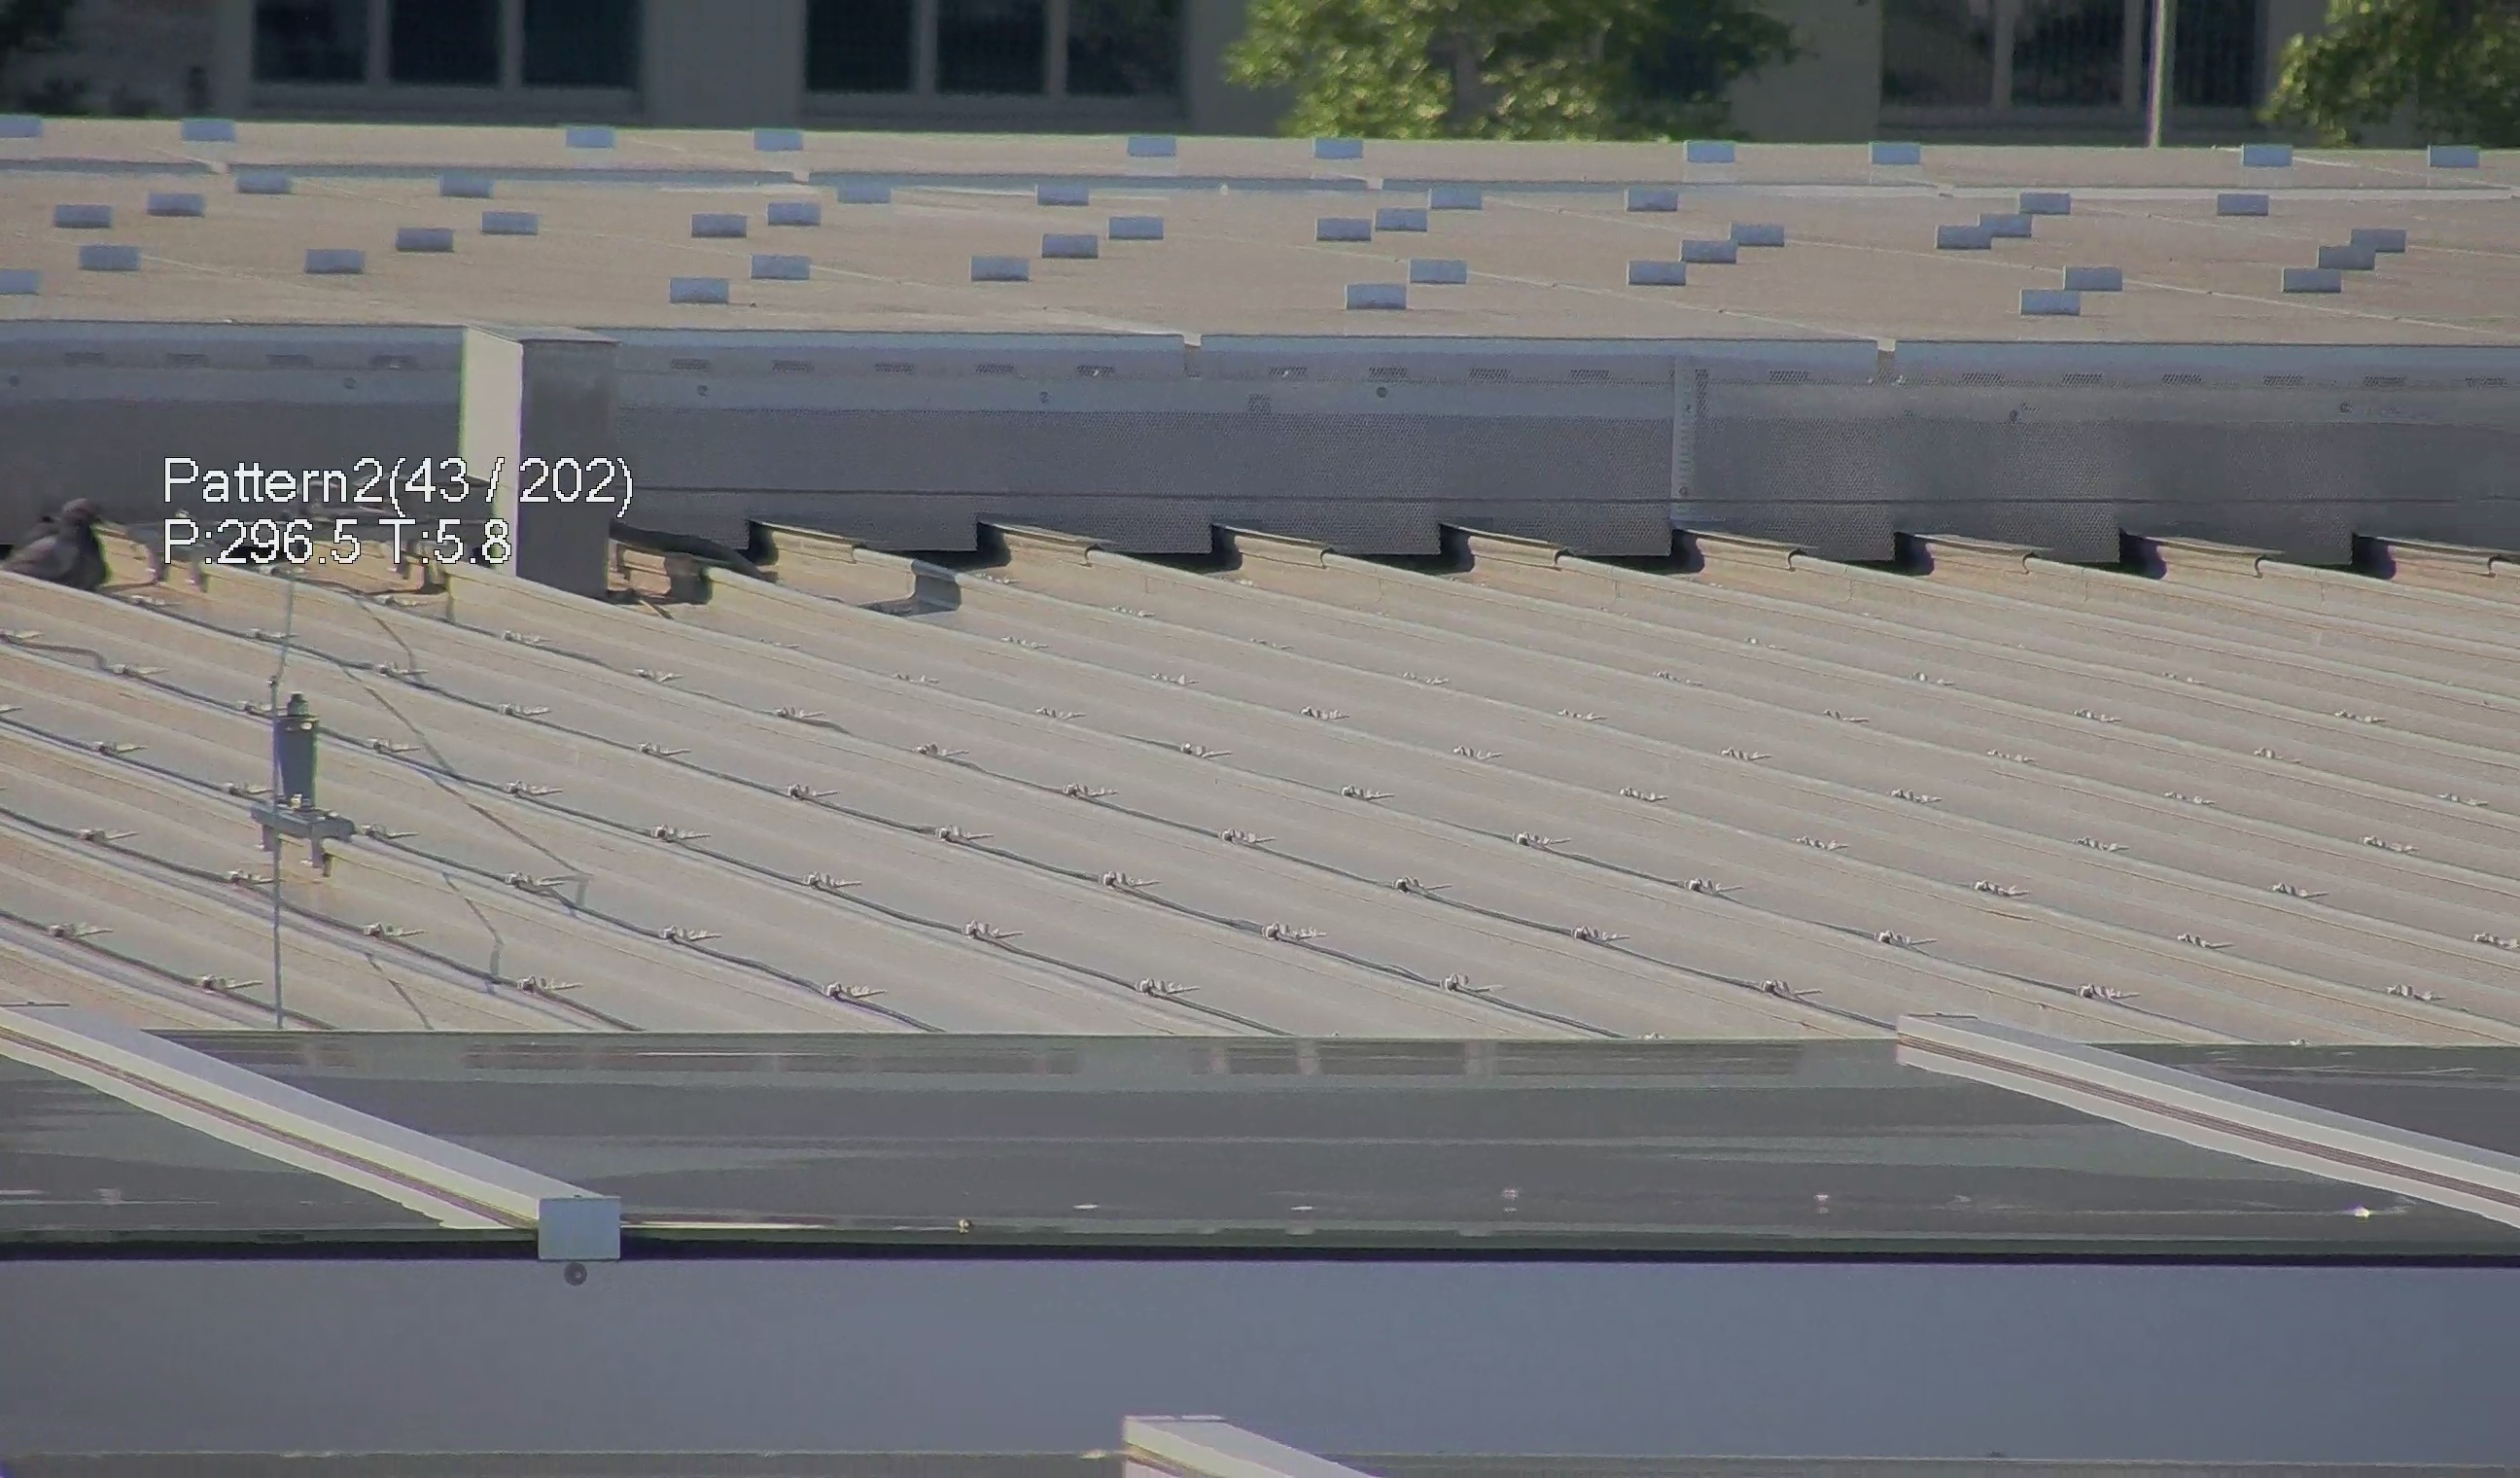Pigeon: (7, 493, 155, 593)
